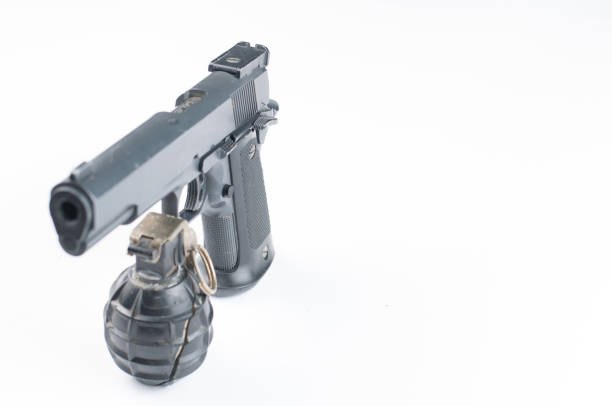e1: (103, 213, 221, 386)
